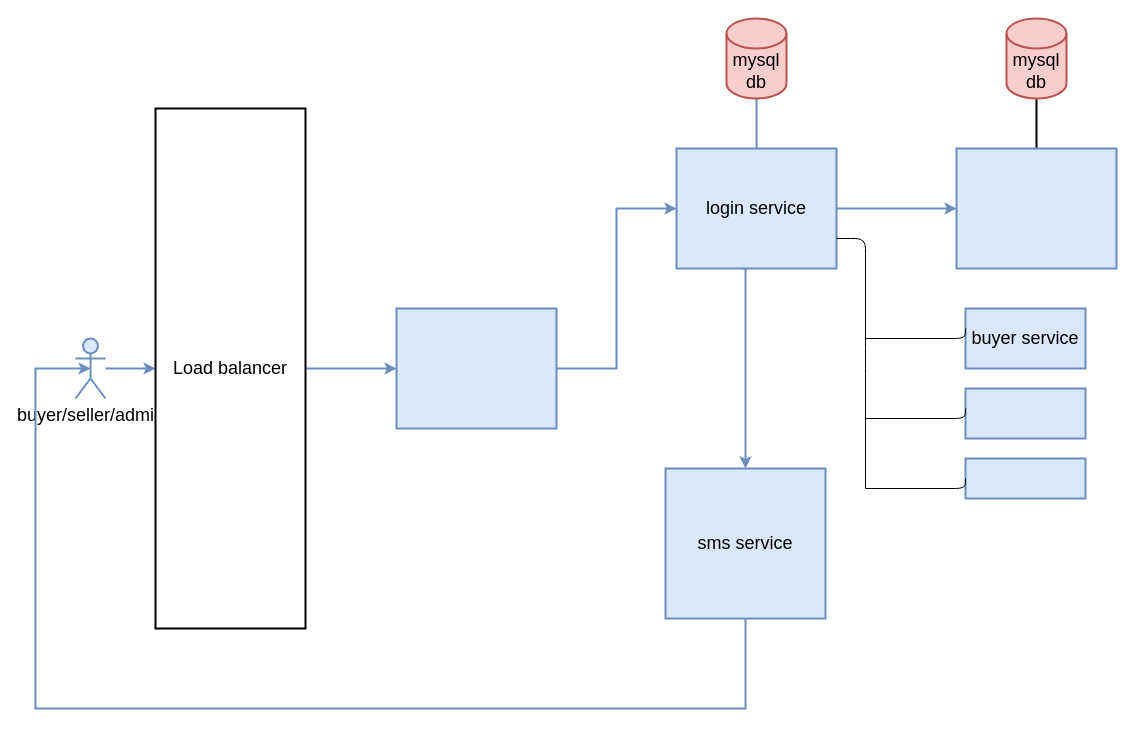
Image size: 1135x734. Some labels were removed from this diagram. Here are the shapes that lost their labels. From the top down, the centre of each, then its label:
(1036,208): otp service
(476,368): inbound service
(1025,413): seller service
(1025,478): admin service
